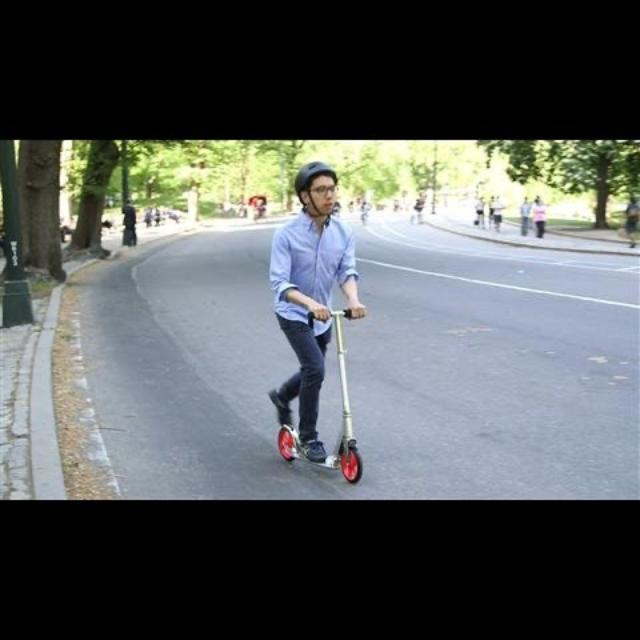With Helmet: (290, 156, 342, 218)
